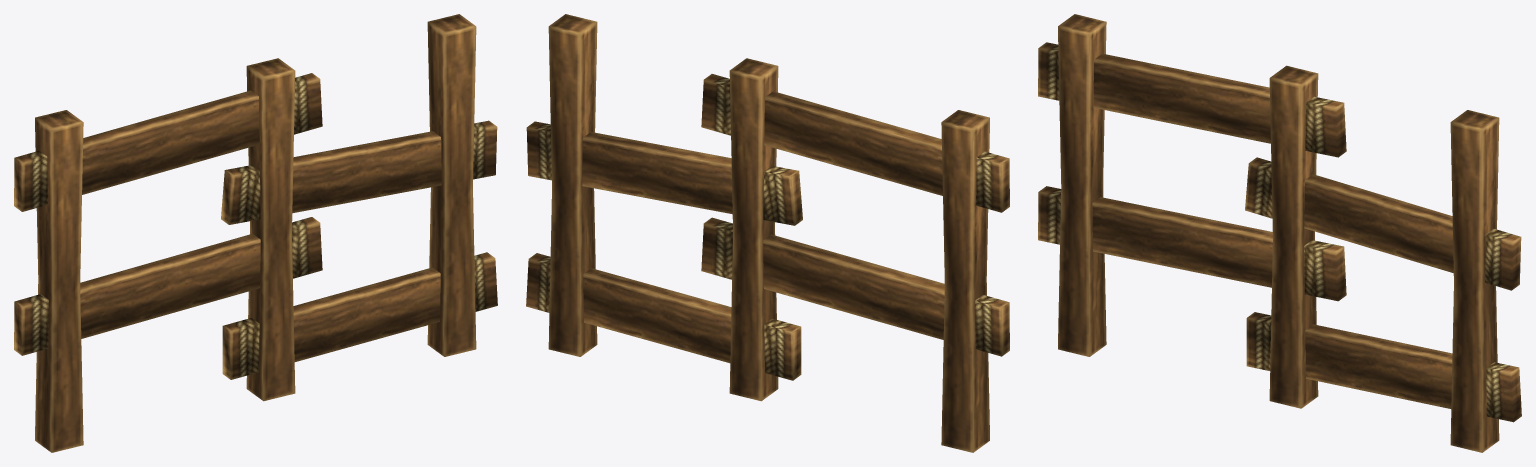
Rendered from WoodenFence03.FBX.
The picture shows the model from 3 angles, left to right: view 1: azimuth 30°, elevation 25°; view 2: azimuth 150°, elevation 25°; view 3: azimuth 330°, elevation 25°; orthographic projection.
Parts seen in each view (by area): view 1: WoodenFence03; view 2: WoodenFence03; view 3: WoodenFence03.
Boxes of the visible parts, x1,y1,x2,y2 form: WoodenFence03: (14, 14, 497, 452); WoodenFence03: (526, 14, 1009, 452); WoodenFence03: (1038, 14, 1521, 452).
Bounding box in the file's own units: 4.36 × 0.2687 × 2.83.
